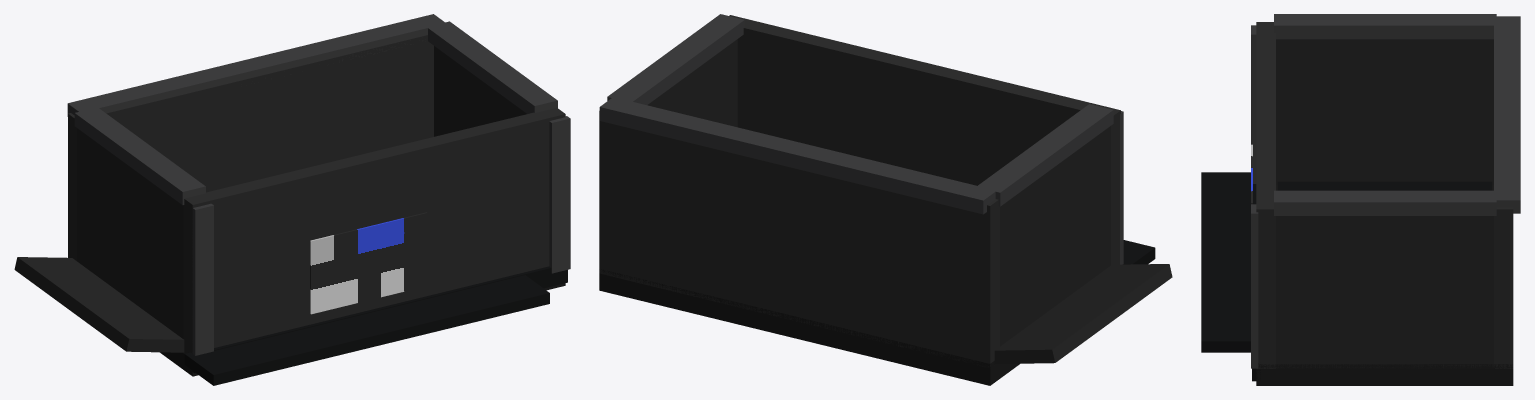
The model's file is CMU3DAirburstPacketCloudOpenStudy.glb.
3 views of the same model, side by side, from view 1: azimuth 30°, elevation 25°; view 2: azimuth 150°, elevation 25°; view 3: azimuth 270°, elevation 25° (orthographic). The views are drawn at different scales.
Parts seen in each view (by area): view 1: front cardboard wall, back cardboard wall, left folded cardboard wall, front opened tuck flap, original red blue and pale front legend, rear opened upper rim, left opened folded flap, right folded cardboard wall, left upper rim, right upper rim, right vertical fold edge, left vertical fold edge (+1 smaller); view 2: back cardboard wall, front cardboard wall, left folded cardboard wall, rear opened upper rim, carton bottom, left opened folded flap, left upper rim, right upper rim, right folded cardboard wall, front opened tuck flap, left vertical fold edge; view 3: right folded cardboard wall, left folded cardboard wall, front opened tuck flap, front cardboard wall, right upper rim, left upper rim, carton bottom, rear opened upper rim, back cardboard wall, visible empty carton lining, right vertical fold edge, left vertical fold edge.
Boxes of the visible parts, bbox=[...] form: front cardboard wall: bbox=[183, 108, 565, 353]; back cardboard wall: bbox=[68, 35, 433, 261]; left folded cardboard wall: bbox=[77, 128, 183, 338]; front opened tuck flap: bbox=[184, 275, 549, 385]; original red blue and pale front legend: bbox=[310, 212, 427, 314]; rear opened upper rim: bbox=[67, 14, 444, 116]; left opened folded flap: bbox=[14, 257, 184, 352]; right folded cardboard wall: bbox=[434, 46, 526, 136]; left upper rim: bbox=[74, 107, 205, 204]; right upper rim: bbox=[427, 21, 557, 113]; right vertical fold edge: bbox=[549, 116, 570, 273]; left vertical fold edge: bbox=[192, 203, 213, 355]; back cardboard wall: bbox=[599, 111, 999, 367]; front cardboard wall: bbox=[729, 15, 1120, 265]; left folded cardboard wall: bbox=[1000, 126, 1110, 346]; rear opened upper rim: bbox=[599, 97, 996, 214]; carton bottom: bbox=[599, 269, 1019, 385]; left opened folded flap: bbox=[994, 264, 1172, 363]; left upper rim: bbox=[978, 104, 1113, 206]; right upper rim: bbox=[607, 14, 744, 104]; right folded cardboard wall: bbox=[647, 39, 737, 127]; front opened tuck flap: bbox=[1123, 240, 1155, 264]; left vertical fold edge: bbox=[1120, 111, 1123, 264]; right folded cardboard wall: bbox=[1276, 216, 1493, 368]; left folded cardboard wall: bbox=[1276, 39, 1493, 185]; front opened tuck flap: bbox=[1201, 172, 1250, 352]; front cardboard wall: bbox=[1256, 22, 1275, 368]; right upper rim: bbox=[1274, 190, 1496, 215]; left upper rim: bbox=[1274, 14, 1496, 39]; carton bottom: bbox=[1256, 185, 1513, 385]; rear opened upper rim: bbox=[1494, 16, 1520, 213]; back cardboard wall: bbox=[1494, 207, 1513, 368]; visible empty carton lining: bbox=[1277, 181, 1492, 190]; right vertical fold edge: bbox=[1251, 204, 1258, 368]; left vertical fold edge: bbox=[1251, 25, 1256, 183].
Size of the model in its own units: 0.5805 by 0.229 by 0.36.
6 materials, 1 textured.
